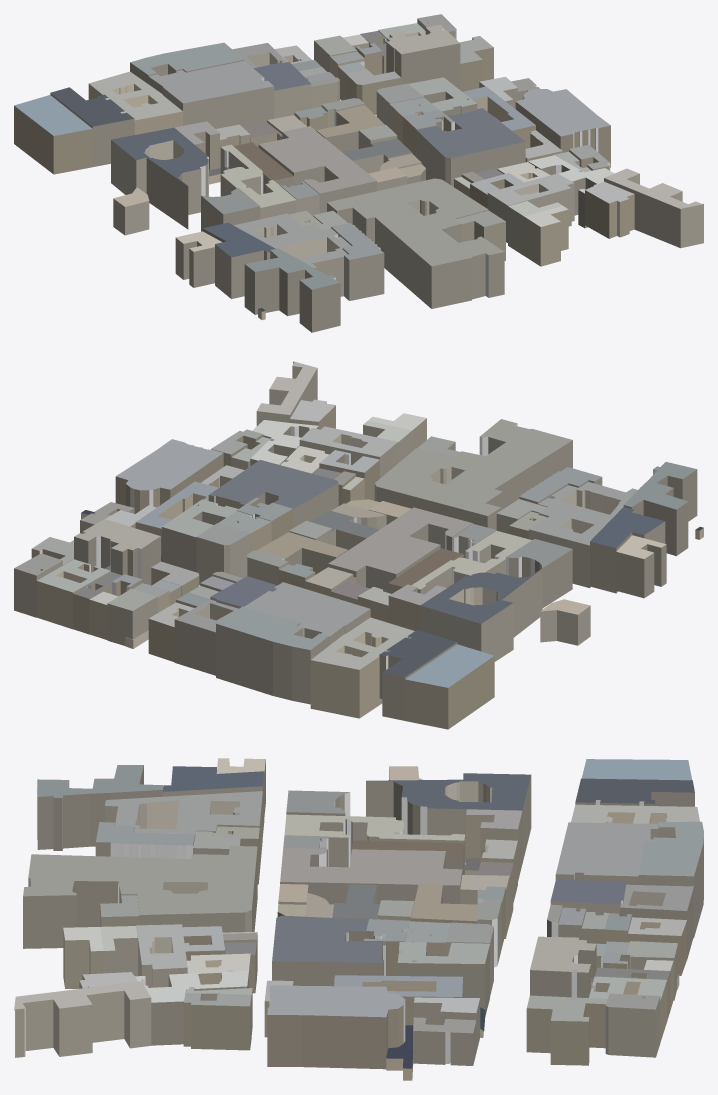
The picture shows the model from 3 angles, top to bottom: view 1: azimuth 30°, elevation 25°; view 2: azimuth 150°, elevation 25°; view 3: azimuth 270°, elevation 25°; orthographic projection. The views are drawn at different scales.
Parts seen in each view (by area): view 1: tuile; view 2: tuile; view 3: tuile.
Boxes of the visible parts, left/top/right/bottom form: tuile: left=14, top=14, right=703, bottom=332; tuile: left=14, top=361, right=703, bottom=729; tuile: left=14, top=758, right=703, bottom=1080.
Size of the model in its own units: 277 by 37.01 by 290.
